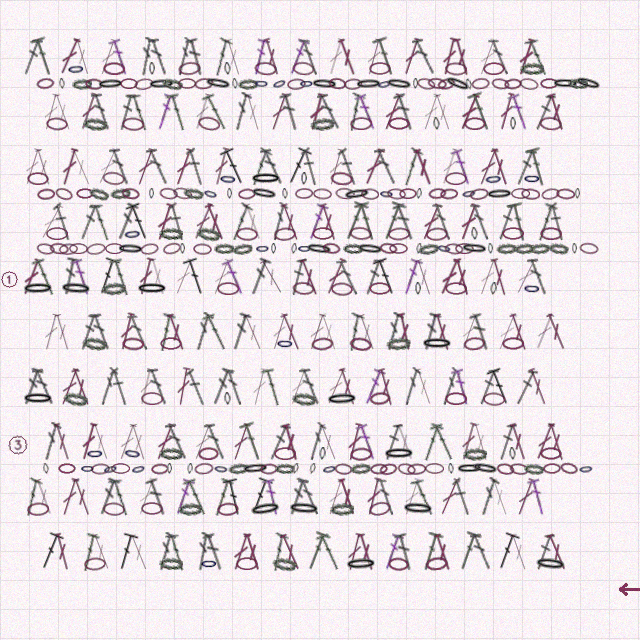chain: (249, 500, 282, 518), (443, 74, 472, 94), (534, 556, 567, 572), (60, 281, 92, 296), (288, 501, 320, 516), (402, 501, 434, 516), (574, 75, 602, 92), (326, 392, 358, 406), (345, 557, 377, 571), (204, 76, 232, 91), (250, 186, 278, 201), (471, 461, 499, 476), (250, 172, 282, 185), (22, 282, 54, 295), (136, 282, 168, 295), (421, 337, 453, 350), (22, 392, 54, 405), (383, 447, 415, 460), (197, 115, 221, 132), (368, 500, 392, 517), (310, 116, 335, 132), (196, 226, 221, 242), (63, 391, 88, 407), (272, 556, 297, 572), (385, 77, 413, 91), (343, 187, 371, 201), (305, 242, 333, 256), (356, 242, 384, 256), (101, 281, 126, 296), (82, 336, 107, 351), (386, 336, 411, 351), (349, 336, 372, 352), (88, 186, 110, 202), (461, 242, 488, 255), (242, 462, 269, 475), (178, 61, 201, 76), (254, 61, 277, 76), (292, 61, 315, 76), (539, 116, 562, 131), (102, 171, 125, 186), (330, 171, 353, 186), (349, 226, 372, 241), (292, 281, 315, 296), (463, 336, 486, 351), (425, 556, 448, 571), (83, 117, 107, 131), (292, 392, 316, 406), (463, 447, 487, 461), (178, 502, 202, 516), (330, 502, 354, 516), (369, 391, 391, 406), (97, 78, 124, 90), (148, 78, 175, 90), (311, 78, 338, 90), (355, 78, 382, 90), (486, 188, 513, 200), (117, 243, 144, 255), (311, 337, 334, 351), (54, 186, 74, 202), (172, 186, 193, 201), (520, 62, 544, 75), (159, 227, 183, 240), (159, 447, 183, 460), (159, 557, 183, 570), (445, 62, 467, 76), (46, 117, 68, 131), (122, 117, 144, 131), (236, 227, 258, 241), (274, 227, 296, 241), (388, 227, 410, 241), (426, 227, 448, 241), (331, 282, 353, 296), (122, 337, 144, 351), (483, 392, 505, 406), (350, 447, 372, 461), (27, 502, 49, 516), (103, 502, 125, 516), (217, 502, 239, 516), (84, 557, 106, 571), (162, 241, 182, 256), (559, 461, 579, 476), (552, 78, 579, 89), (456, 463, 483, 474), (162, 77, 183, 91), (232, 242, 253, 256), (418, 242, 439, 256), (388, 557, 409, 571), (103, 62, 125, 75), (369, 62, 391, 75), (483, 62, 505, 75), (350, 117, 372, 130), (388, 117, 410, 130), (464, 117, 486, 130), (27, 172, 49, 185), (445, 172, 467, 185), (46, 227, 68, 240), (312, 227, 334, 240), (502, 227, 524, 240), (540, 227, 562, 240), (217, 282, 239, 295), (369, 282, 391, 295), (445, 282, 467, 295), (160, 337, 182, 350), (502, 337, 524, 350), (141, 392, 163, 405), (445, 392, 467, 405), (274, 447, 296, 460), (540, 447, 562, 460), (141, 502, 163, 515), (236, 557, 258, 570), (123, 446, 142, 461), (134, 77, 154, 91), (416, 77, 436, 91), (519, 77, 539, 91), (469, 187, 489, 201), (86, 242, 106, 256), (509, 462, 529, 476), (110, 187, 131, 200), (183, 187, 204, 200), (496, 242, 517, 255), (514, 242, 535, 255), (529, 242, 550, 255), (548, 242, 569, 255), (198, 447, 219, 460), (228, 462, 249, 475), (350, 462, 371, 475), (437, 77, 456, 91), (491, 77, 510, 91), (484, 172, 503, 186), (541, 187, 560, 201), (123, 227, 142, 241), (36, 242, 55, 256), (140, 242, 159, 256), (379, 462, 398, 476), (397, 462, 416, 476), (496, 462, 515, 476), (194, 77, 214, 90), (427, 77, 447, 90), (335, 187, 355, 200), (49, 242, 69, 255), (579, 242, 599, 255), (194, 462, 214, 475), (271, 76, 288, 91), (67, 62, 85, 76), (219, 172, 237, 186), (36, 77, 55, 90), (328, 77, 347, 90), (471, 77, 490, 90), (121, 187, 140, 200), (159, 187, 178, 200), (428, 187, 447, 200), (322, 242, 341, 255), (379, 242, 398, 255), (72, 78, 92, 90), (238, 78, 258, 90), (444, 243, 464, 255), (524, 463, 544, 475), (376, 77, 393, 91), (202, 187, 219, 201), (102, 462, 119, 476), (130, 462, 147, 476), (321, 462, 338, 476), (523, 172, 541, 185), (523, 282, 541, 295), (276, 337, 294, 350), (86, 447, 104, 460), (200, 557, 218, 570), (287, 78, 306, 90), (313, 188, 332, 200), (387, 188, 406, 200), (521, 188, 540, 200), (556, 188, 575, 200), (59, 243, 78, 255), (193, 243, 212, 255), (91, 463, 110, 475), (334, 463, 353, 475), (407, 463, 426, 475), (568, 78, 588, 89), (214, 243, 234, 254), (343, 243, 363, 254), (275, 463, 295, 474), (85, 78, 103, 90), (344, 78, 362, 90), (504, 78, 522, 90), (37, 188, 55, 200), (238, 188, 256, 200), (361, 188, 379, 200), (440, 188, 458, 200), (151, 463, 169, 475), (260, 463, 278, 475), (370, 463, 388, 475), (511, 188, 530, 199), (69, 243, 88, 254), (105, 243, 124, 254), (389, 243, 408, 254), (455, 243, 474, 254), (111, 463, 130, 474), (425, 463, 444, 474), (461, 187, 477, 200), (436, 242, 452, 255), (120, 78, 138, 89), (178, 78, 196, 89), (540, 78, 558, 89), (76, 188, 94, 199), (295, 188, 313, 199), (399, 188, 417, 199), (58, 463, 76, 474), (543, 463, 561, 474), (213, 463, 229, 475), (578, 463, 594, 475), (379, 188, 394, 200), (254, 78, 269, 89), (299, 78, 314, 89), (255, 243, 270, 254), (297, 243, 312, 254), (80, 463, 95, 474), (465, 78, 473, 90), (224, 62, 231, 75), (433, 117, 440, 130), (471, 227, 478, 240), (490, 282, 497, 295), (224, 392, 231, 405), (319, 447, 326, 460), (509, 447, 516, 460), (149, 62, 155, 75), (510, 117, 516, 130), (301, 172, 307, 185), (415, 282, 421, 295), (292, 463, 299, 474), (309, 463, 316, 474), (59, 78, 65, 89), (232, 78, 238, 89), (282, 188, 288, 199), (416, 188, 422, 199), (291, 243, 297, 254), (416, 243, 422, 254), (43, 463, 49, 474), (187, 463, 193, 474), (448, 463, 454, 474), (413, 78, 418, 89), (149, 188, 154, 199), (227, 188, 232, 199), (575, 188, 580, 199), (180, 243, 185, 254), (271, 243, 276, 254), (488, 243, 493, 254), (572, 243, 577, 254), (167, 463, 172, 474)
double: (219, 146, 249, 187), (283, 146, 313, 187), (36, 531, 65, 572), (257, 257, 287, 296), (467, 91, 495, 132), (125, 201, 153, 242), (341, 201, 369, 242), (379, 201, 407, 242), (372, 256, 400, 297), (486, 366, 514, 407), (246, 476, 274, 517), (303, 531, 331, 572), (493, 531, 521, 572), (201, 92, 229, 132), (201, 312, 229, 352), (30, 36, 57, 77), (372, 36, 399, 77), (94, 256, 121, 297), (182, 256, 209, 297), (239, 421, 266, 462), (455, 531, 482, 572), (37, 202, 65, 241), (512, 257, 540, 296), (524, 37, 551, 77), (68, 147, 95, 187), (227, 202, 254, 242), (436, 257, 463, 297), (429, 422, 456, 462), (182, 477, 209, 517), (410, 477, 437, 517), (436, 477, 463, 517), (277, 532, 304, 572), (315, 532, 342, 572), (354, 201, 380, 242), (56, 37, 83, 76), (94, 147, 121, 186), (456, 92, 482, 132), (247, 147, 273, 187), (361, 147, 387, 187), (475, 147, 501, 187), (202, 202, 228, 242), (392, 202, 418, 242), (418, 202, 444, 242), (532, 202, 558, 242), (31, 257, 57, 297), (240, 312, 266, 352), (278, 312, 304, 352), (494, 312, 520, 352), (152, 422, 178, 462), (418, 422, 444, 462), (126, 532, 152, 572), (418, 532, 444, 572), (544, 532, 570, 572), (190, 202, 216, 241), (221, 257, 247, 296), (335, 37, 360, 77), (475, 37, 500, 77), (380, 92, 405, 132), (133, 147, 158, 187), (171, 147, 196, 187), (399, 147, 424, 187), (411, 147, 436, 187), (525, 147, 550, 187), (114, 202, 139, 242), (278, 202, 303, 242), (456, 202, 481, 242), (19, 257, 44, 297), (209, 257, 234, 297), (247, 257, 272, 297), (297, 257, 322, 297), (475, 257, 500, 297), (164, 312, 189, 352), (57, 367, 82, 407), (69, 367, 94, 407), (209, 367, 234, 407), (190, 422, 215, 462), (316, 422, 341, 462), (145, 477, 170, 517), (209, 477, 234, 517), (513, 477, 538, 517), (114, 532, 139, 572), (202, 532, 227, 572), (354, 92, 379, 131), (171, 257, 196, 296), (323, 257, 348, 296), (532, 312, 557, 351), (544, 312, 569, 351), (323, 367, 348, 406), (361, 367, 386, 406), (532, 422, 557, 461), (96, 37, 120, 77), (514, 37, 538, 77), (51, 92, 75, 132), (127, 92, 151, 132), (267, 92, 291, 132), (393, 92, 417, 132), (419, 92, 443, 132), (431, 92, 455, 132), (488, 147, 512, 187), (89, 202, 113, 242), (507, 202, 531, 242), (108, 257, 132, 297), (412, 257, 436, 297), (305, 312, 329, 352), (317, 312, 341, 352), (355, 312, 379, 352), (469, 312, 493, 352), (507, 312, 531, 352), (20, 367, 44, 407), (115, 422, 139, 462), (229, 422, 253, 462), (70, 477, 94, 517), (96, 477, 120, 517), (108, 477, 132, 517), (222, 477, 246, 517), (400, 477, 424, 517), (488, 477, 512, 517), (229, 532, 253, 572), (431, 532, 455, 572), (507, 532, 531, 572), (286, 37, 310, 76), (412, 37, 436, 76), (317, 92, 341, 131), (507, 92, 531, 131), (260, 147, 284, 186), (450, 147, 474, 186), (241, 202, 265, 241), (305, 202, 329, 241), (457, 312, 481, 351), (286, 367, 310, 406), (526, 367, 550, 406), (355, 422, 379, 461), (393, 422, 417, 461), (32, 477, 56, 516), (134, 477, 158, 516), (476, 477, 500, 516), (89, 532, 113, 571), (210, 37, 233, 77), (222, 37, 245, 77), (165, 92, 188, 132), (279, 92, 302, 132), (533, 92, 556, 132), (545, 92, 568, 132), (32, 147, 55, 187), (58, 147, 81, 187), (153, 202, 176, 242), (317, 202, 340, 242), (488, 257, 511, 297), (51, 312, 74, 352), (229, 312, 252, 352), (431, 312, 454, 352), (260, 367, 283, 407), (127, 422, 150, 462), (545, 422, 568, 462), (58, 477, 81, 517), (286, 477, 309, 517), (324, 477, 347, 517), (77, 532, 100, 572), (165, 532, 188, 572), (241, 532, 264, 572), (355, 532, 378, 572), (336, 258, 360, 296), (184, 368, 208, 406), (514, 368, 538, 406), (267, 423, 291, 461), (108, 37, 131, 76), (400, 37, 423, 76), (488, 37, 511, 76), (77, 92, 100, 131), (191, 92, 214, 131), (146, 147, 169, 186), (374, 147, 397, 186), (438, 147, 461, 186), (70, 257, 93, 296), (400, 257, 423, 296), (191, 312, 214, 351), (32, 367, 55, 406), (336, 367, 359, 406), (412, 367, 435, 406), (39, 422, 62, 461), (51, 422, 74, 461), (89, 422, 112, 461), (165, 422, 188, 461), (507, 422, 530, 461), (172, 477, 195, 516), (298, 477, 321, 516), (336, 477, 359, 516), (381, 532, 404, 571), (185, 37, 207, 77), (363, 37, 385, 77), (451, 37, 473, 77), (40, 92, 62, 132), (242, 92, 264, 132), (306, 92, 328, 132), (344, 92, 366, 132), (325, 147, 347, 187), (451, 257, 473, 297), (40, 312, 62, 352), (154, 312, 176, 352), (420, 312, 442, 352), (375, 367, 397, 407), (280, 422, 302, 462), (470, 422, 492, 462), (21, 477, 43, 517), (394, 532, 416, 572), (514, 148, 537, 186), (127, 313, 150, 351), (21, 37, 43, 76), (71, 37, 93, 76), (261, 37, 283, 76), (325, 37, 347, 76), (154, 92, 176, 131), (230, 92, 252, 131), (21, 147, 43, 186), (337, 147, 359, 186), (78, 202, 100, 241), (147, 257, 169, 296), (268, 312, 290, 351), (382, 312, 404, 351), (97, 367, 119, 406), (299, 367, 321, 406), (439, 367, 461, 406), (477, 367, 499, 406), (204, 422, 226, 461), (451, 477, 473, 516), (154, 532, 176, 571), (470, 532, 492, 571), (344, 312, 365, 352), (249, 367, 270, 407), (344, 422, 365, 462), (268, 532, 289, 572), (344, 532, 365, 572), (299, 37, 320, 76), (439, 37, 460, 76), (496, 92, 517, 131), (109, 147, 130, 186), (185, 147, 206, 186), (211, 147, 232, 186), (52, 202, 73, 241), (432, 202, 453, 241), (470, 202, 491, 241), (496, 202, 517, 241), (363, 257, 384, 296), (527, 257, 548, 296), (78, 312, 99, 351), (90, 312, 111, 351), (109, 367, 130, 406), (147, 367, 168, 406), (401, 367, 422, 406), (451, 367, 472, 406), (78, 422, 99, 461), (306, 422, 327, 461), (458, 422, 479, 461), (363, 477, 384, 516), (527, 477, 548, 516), (52, 532, 73, 571), (534, 532, 555, 571), (136, 37, 156, 76), (148, 37, 168, 76), (174, 37, 194, 76), (250, 37, 270, 76), (91, 92, 111, 131), (300, 147, 320, 186), (167, 202, 187, 241), (269, 202, 289, 241), (547, 202, 567, 241), (60, 257, 80, 296), (136, 257, 156, 296), (117, 312, 137, 351), (395, 312, 415, 351), (136, 367, 156, 406), (224, 367, 244, 406), (383, 422, 403, 461), (497, 422, 517, 461), (262, 477, 282, 516), (376, 477, 396, 516), (117, 92, 136, 131), (174, 367, 193, 406), (193, 532, 212, 571), (289, 257, 307, 296)
noise: (6, 433, 30, 457), (0, 269, 20, 290), (616, 582, 640, 596)
